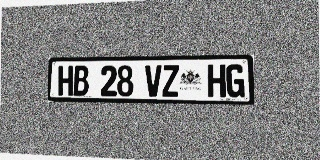2: (101, 65, 117, 96)
8: (117, 65, 133, 96)
B: (73, 66, 89, 96)
G: (226, 64, 245, 97)
H: (208, 64, 226, 97), (58, 66, 73, 96)
V: (145, 65, 162, 97)
Z: (162, 65, 179, 97)
